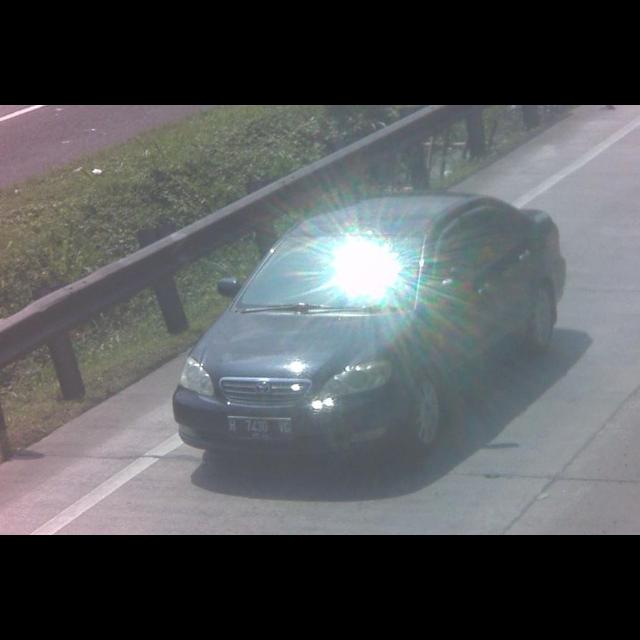plate: (224, 414, 293, 444)
